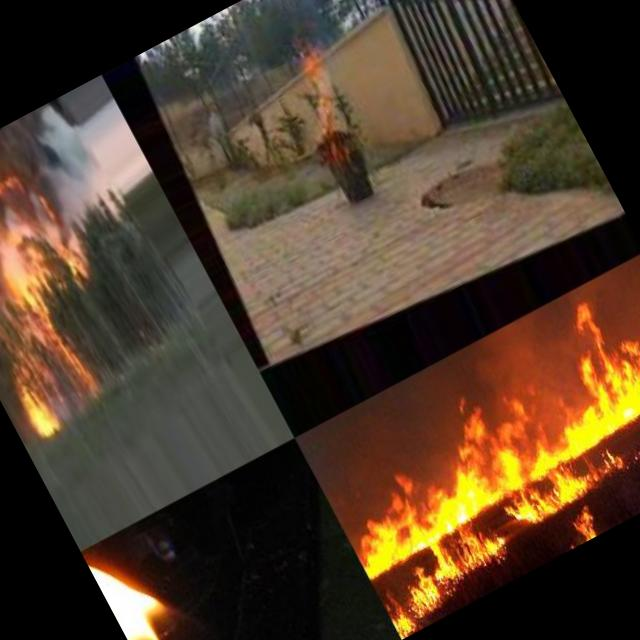fire: (294, 251, 640, 588), (80, 517, 250, 640), (366, 508, 518, 638), (0, 244, 115, 409), (492, 420, 636, 534), (277, 38, 377, 165), (536, 488, 626, 558), (8, 372, 66, 450)
smoke: (0, 122, 107, 288), (0, 264, 24, 339)
